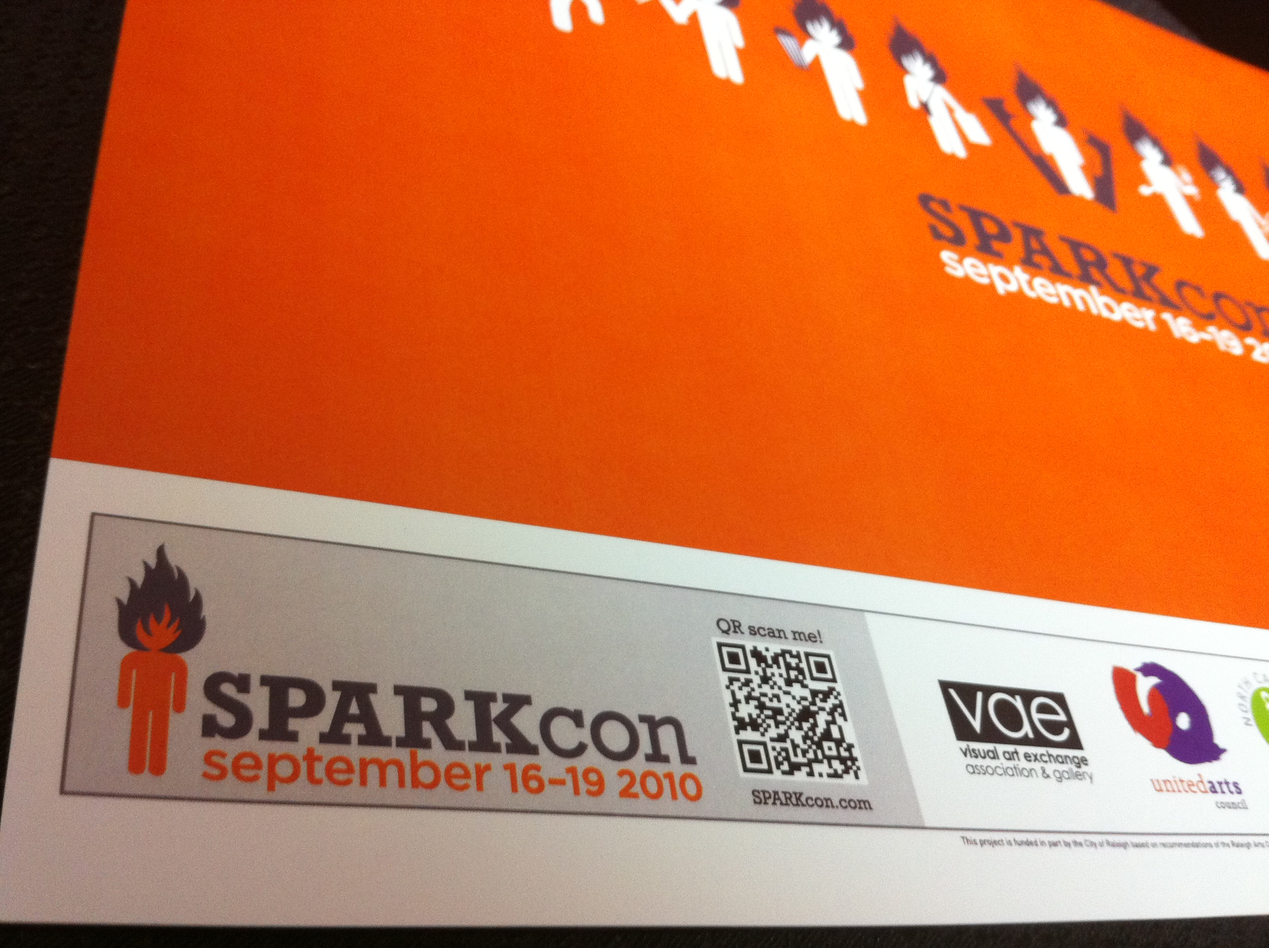QR-CODE: (715, 641, 864, 780)
